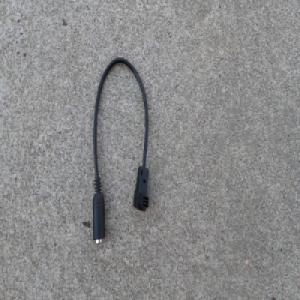Wire: (91, 56, 150, 248)
